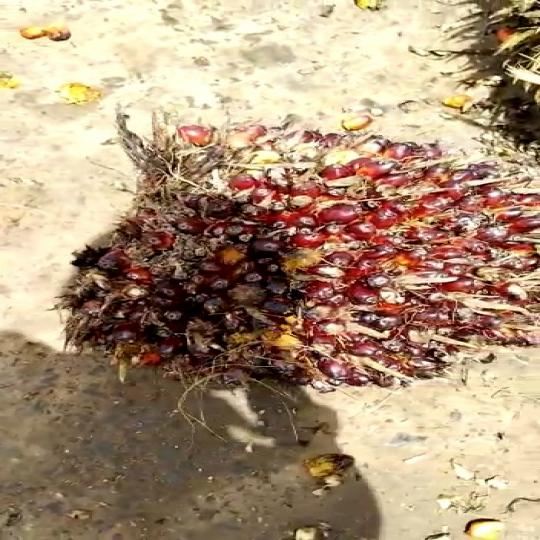masak: (53, 120, 540, 396)
